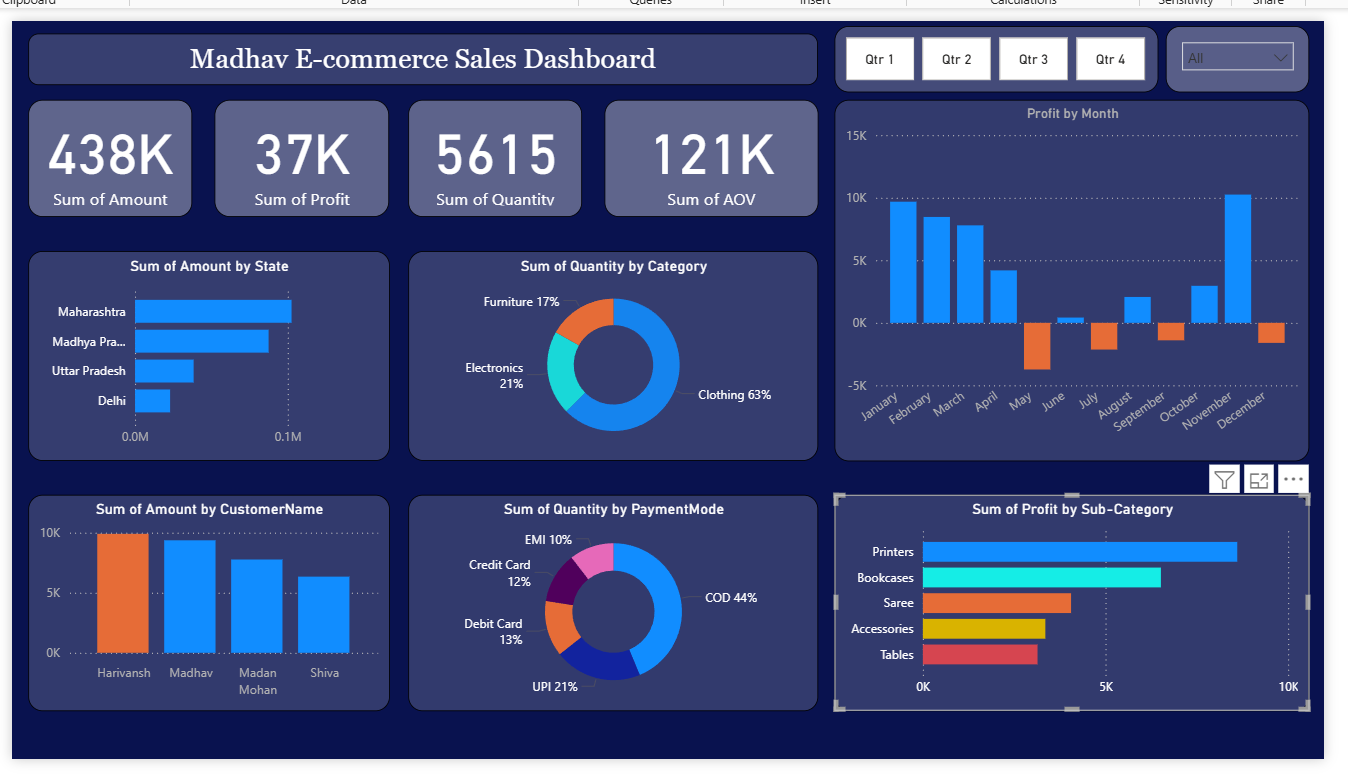

What the dashboard file says about the page in this screenshot:
{"tool":"powerbi","page":{"name":"Page 2","canvas":[1280,720],"ordinal":1},"visuals":[{"type":"columnChart","title":"Profit by Month","fields":{"Category":["Orders.Order Date.Variation.Date Hierarchy.Month"],"Y":["Details.Profit"]},"box":[802.4,76.8,463.4,352.4],"z":0},{"type":"textbox","box":[15.9,12.2,770.7,50],"z":1000},{"type":"card","fields":{"Values":["Details.Amount"]},"box":[15.9,76.8,159.8,114.6],"z":2000},{"type":"card","fields":{"Values":["Details.Profit"]},"box":[197.6,76.8,170.7,114.6],"z":3000},{"type":"card","fields":{"Values":["Details.Quantity"]},"box":[386.6,76.8,169.5,114.6],"z":4000},{"type":"card","fields":{"Values":["Details.AOV"]},"box":[578,76.8,208.5,114.6],"z":5000},{"type":"clusteredBarChart","fields":{"Category":["Orders.State"],"Y":["Details.Amount"]},"box":[15.9,224.4,352.4,204.9],"z":6000},{"type":"donutChart","fields":{"Category":["Details.Category"],"Y":["Details.Quantity"]},"box":[386.6,224.4,400,204.9],"z":7000},{"type":"columnChart","fields":{"Category":["Orders.CustomerName"],"Y":["Details.Amount"]},"box":[15.9,462.2,352.4,211],"z":8000},{"type":"donutChart","fields":{"Category":["Details.PaymentMode"],"Y":["Details.Quantity"]},"box":[387,462,400,211],"z":9000},{"type":"clusteredBarChart","fields":{"Y":["Details.Profit"],"Category":["Details.Sub-Category"]},"box":[802.4,462.2,463.4,211],"z":10000},{"type":"advancedSlicerVisual","fields":{"Values":["Orders.Order Date.Variation.Date Hierarchy.Quarter"]},"box":[802.4,4.9,315.9,64.6],"z":11000},{"type":"slicer","fields":{"Values":["Orders.Order Date.Variation.Date Hierarchy.Month"]},"box":[1125.6,4.9,140.2,64.6],"z":12000}]}

Visuals, with their boxes on the page's 1280x720 design canvas (x1, y1, x2, y2). These are canvas units, not pixel positions in the 1348x776 screenshot, which may show the page scaled, cropped or inside an application window:
"Profit by Month" columnChart: [left=802, top=77, right=1266, bottom=429]
textbox: [left=16, top=12, right=787, bottom=62]
card - Details.Amount: [left=16, top=77, right=176, bottom=191]
card - Details.Profit: [left=198, top=77, right=368, bottom=191]
card - Details.Quantity: [left=387, top=77, right=556, bottom=191]
card - Details.AOV: [left=578, top=77, right=786, bottom=191]
clusteredBarChart - Orders.State x Details.Amount: [left=16, top=224, right=368, bottom=429]
donutChart - Details.Category x Details.Quantity: [left=387, top=224, right=787, bottom=429]
columnChart - Orders.CustomerName x Details.Amount: [left=16, top=462, right=368, bottom=673]
donutChart - Details.PaymentMode x Details.Quantity: [left=387, top=462, right=787, bottom=673]
clusteredBarChart - Details.Profit x Details.Sub-Category: [left=802, top=462, right=1266, bottom=673]
advancedSlicerVisual - Orders.Order Date.Variation.Date Hierarchy.Quarter: [left=802, top=5, right=1118, bottom=70]
slicer - Orders.Order Date.Variation.Date Hierarchy.Month: [left=1126, top=5, right=1266, bottom=70]
